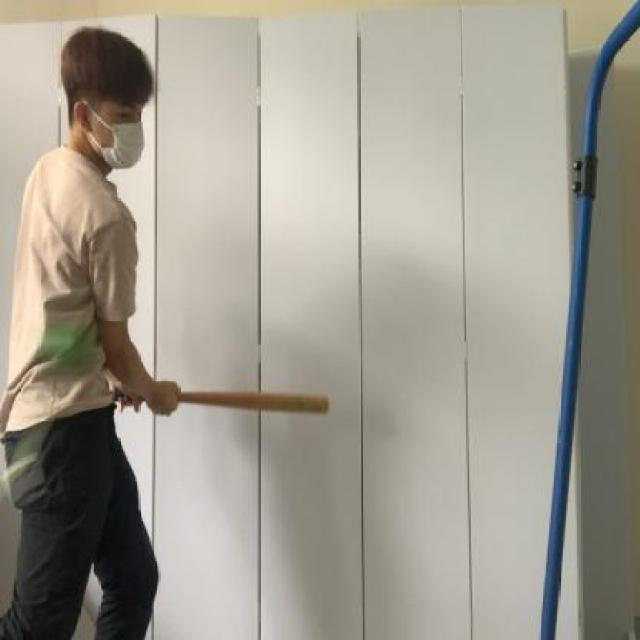baseball: (31, 318, 84, 374)
